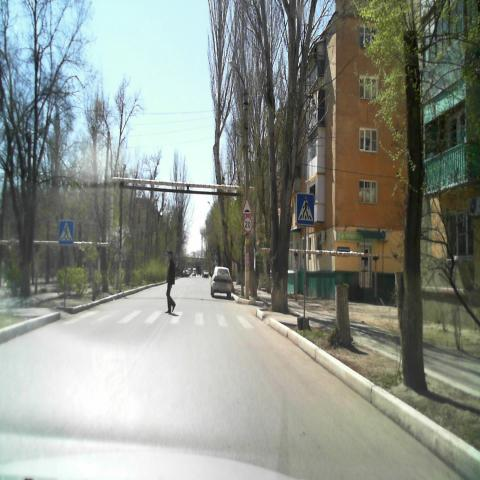3_24: (244, 217, 252, 231)
